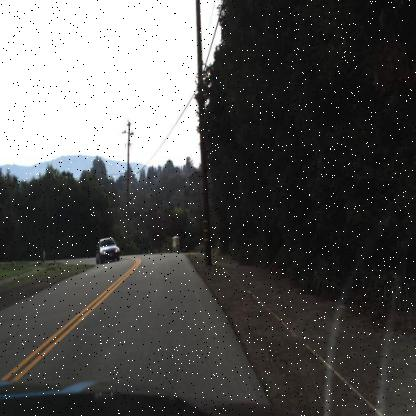car: (93, 236, 121, 264)
